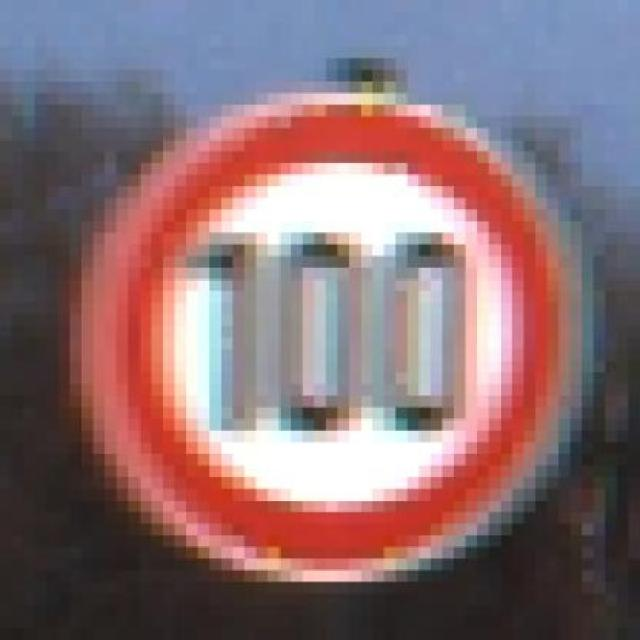forb_speed_over_100: (88, 96, 577, 573)
